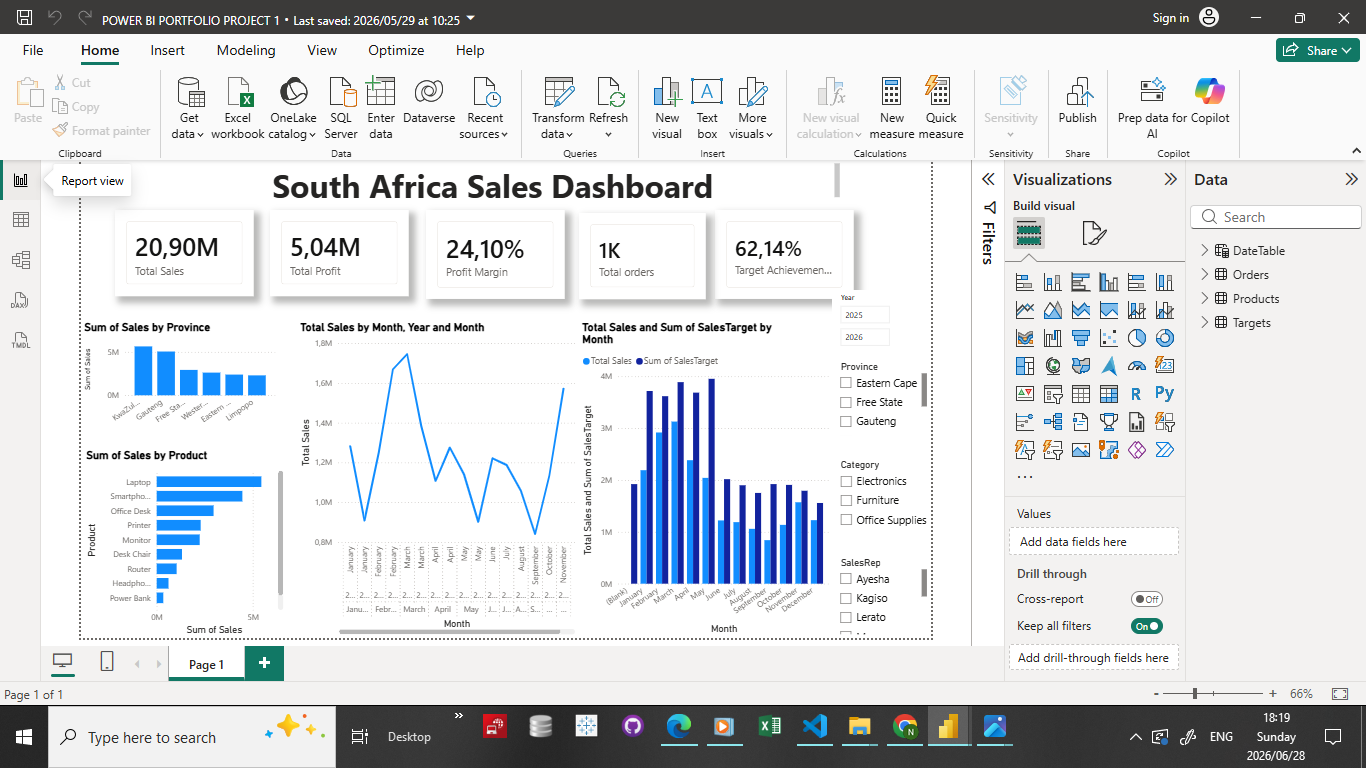

This screenshot's page, from the dashboard's own definition file:
{"tool":"powerbi","page":{"name":"Page 1","canvas":[1280,720],"ordinal":0},"visuals":[{"type":"cardVisual","fields":{"Data":["Targets.Target Achievement %"]},"box":[955,75.3,209.4,134.1],"z":0},{"type":"cardVisual","fields":{"Data":["DateTable.Total orders"]},"box":[750.1,79.8,191.3,129.5],"z":1000},{"type":"cardVisual","fields":{"Data":["DateTable.Profit Margin"]},"box":[519.7,75.3,209.4,134.1],"z":2000},{"type":"cardVisual","fields":{"Data":["DateTable.Total Profit"]},"box":[284.7,75.3,209.4,129.5],"z":3000},{"type":"cardVisual","fields":{"Data":["DateTable.Total Sales"]},"box":[51.2,75.3,209.4,129.5],"z":4000},{"type":"lineChart","fields":{"Y":["DateTable.Total Sales"],"Category":["DateTable.Month","DateTable.Date.Variation.Date Hierarchy.Year","DateTable.Date.Variation.Date Hierarchy.Month"]},"box":[325.9,241.5,423.7,478.5],"z":5000},{"type":"clusteredBarChart","fields":{"Category":["Orders.Product"],"Y":["Sum(Orders.Sales)"]},"box":[3,434.1,306.7,285.9],"z":6000},{"type":"clusteredColumnChart","fields":{"Category":["Orders.Province"],"Y":["Sum(Orders.Sales)"]},"box":[0,241.5,297.8,167.4],"z":7000},{"type":"slicer","fields":{"Values":["Orders.Province"]},"box":[1131.9,297.8,148.1,121.5],"z":8000},{"type":"slicer","fields":{"Values":["Orders.Category"]},"box":[1131.9,445.9,148.1,133.3],"z":9000},{"type":"slicer","fields":{"Values":["DateTable.Year"]},"box":[1131.9,195.6,148.1,88.9],"z":10000},{"type":"slicer","fields":{"Values":["Targets.SalesRep"]},"box":[1131.9,594.1,148.1,125.9],"z":11000},{"type":"textbox","box":[100.7,0,1047.4,66.7],"z":12000},{"type":"clusteredColumnChart","fields":{"Category":["DateTable.Month"],"Y":["DateTable.Total Sales","Sum(Targets.SalesTarget)"]},"box":[749.6,241.5,382.2,478.5],"z":13000}]}

Visuals, with their boxes on the page's 1280x720 design canvas (x1, y1, x2, y2). These are canvas units, not pixel positions in the 1366x768 screenshot, which may show the page scaled, cropped or inside an application window:
cardVisual - Targets.Target Achievement %: region(955, 75, 1164, 209)
cardVisual - DateTable.Total orders: region(750, 80, 941, 209)
cardVisual - DateTable.Profit Margin: region(520, 75, 729, 209)
cardVisual - DateTable.Total Profit: region(285, 75, 494, 205)
cardVisual - DateTable.Total Sales: region(51, 75, 261, 205)
lineChart - DateTable.Total Sales x DateTable.Month: region(326, 242, 750, 720)
clusteredBarChart - Orders.Product x Sum(Orders.Sales): region(3, 434, 310, 720)
clusteredColumnChart - Orders.Province x Sum(Orders.Sales): region(0, 242, 298, 409)
slicer - Orders.Province: region(1132, 298, 1280, 419)
slicer - Orders.Category: region(1132, 446, 1280, 579)
slicer - DateTable.Year: region(1132, 196, 1280, 284)
slicer - Targets.SalesRep: region(1132, 594, 1280, 720)
textbox: region(101, 0, 1148, 67)
clusteredColumnChart - DateTable.Month x DateTable.Total Sales: region(750, 242, 1132, 720)
